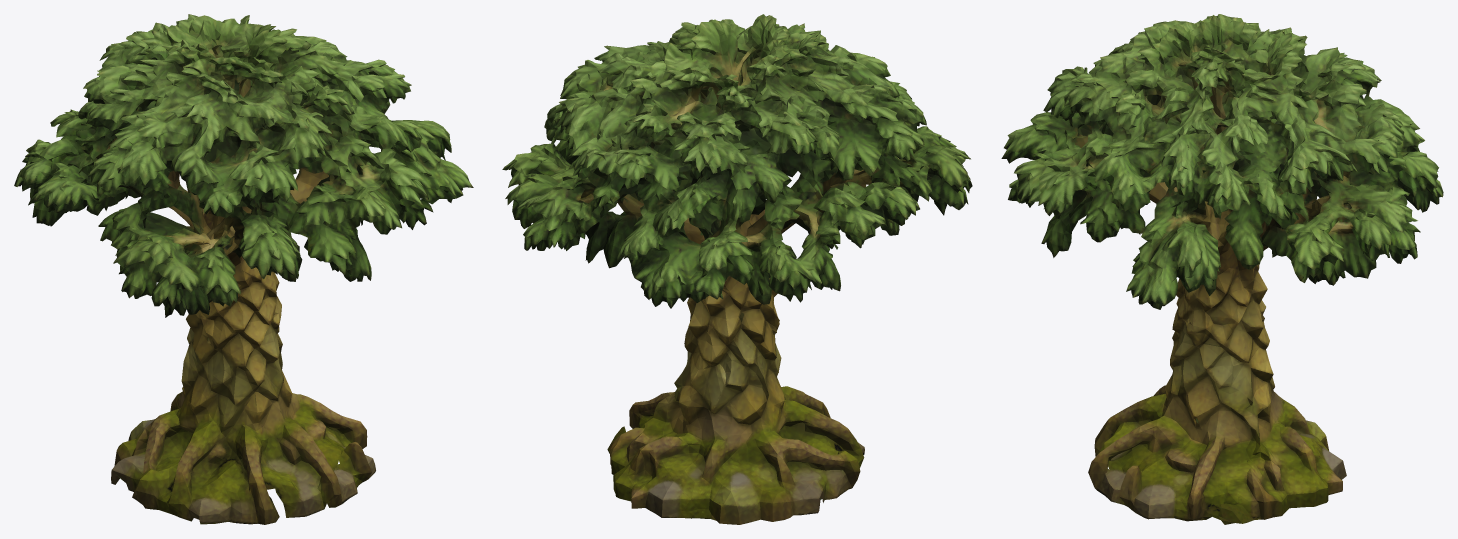
The picture shows the model from 3 angles, left to right: view 1: azimuth 30°, elevation 25°; view 2: azimuth 150°, elevation 25°; view 3: azimuth 270°, elevation 25°; orthographic projection.
Parts seen in each view (by area): view 1: world; view 2: world; view 3: world.
Boxes of the visible parts, x1,y1,x2,y2 form: world: (14,14,473,524); world: (502,14,972,524); world: (1001,14,1443,524).
Size of the model in its own units: 7.89 by 8.46 by 7.7.
Materials: 1 (1 with a texture image).
